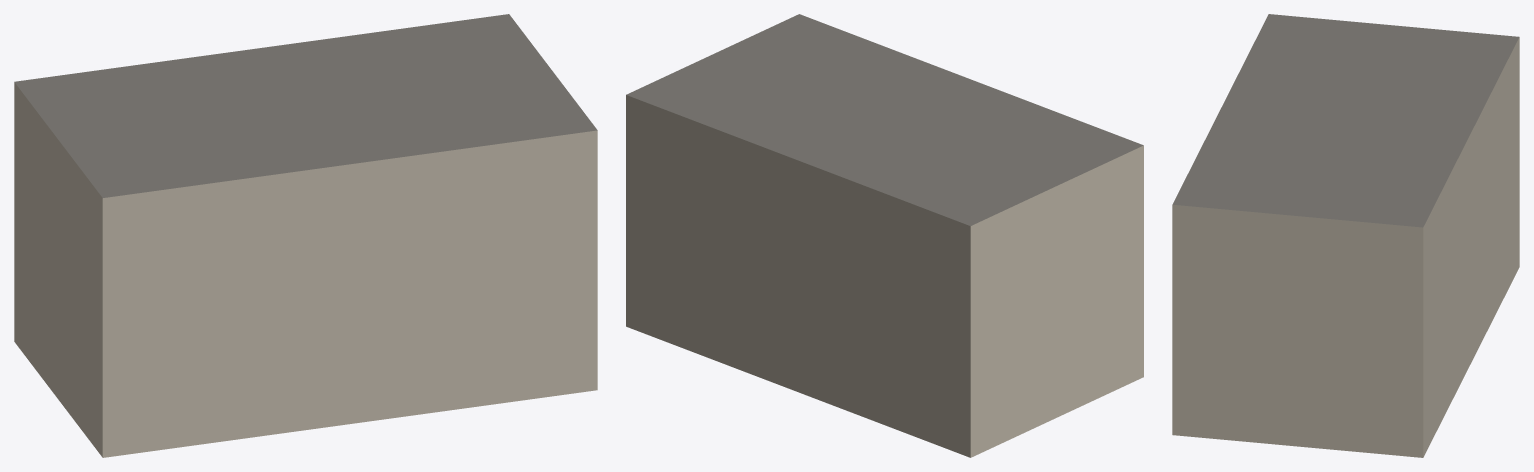
3 renders of one model, left to right at view 1: azimuth 30°, elevation 25°; view 2: azimuth 150°, elevation 25°; view 3: azimuth 270°, elevation 25°, orthographic. The views are drawn at different scales.
Parts seen in each view (by area): view 1: HP-w859488863; view 2: HP-w859488863; view 3: HP-w859488863.
Boxes of the visible parts, x1,y1,x2,y2 form: HP-w859488863: (14,14,597,457); HP-w859488863: (626,14,1143,457); HP-w859488863: (1172,14,1519,457).
Size of the model in its own units: 35.78 by 18 by 24.58.
